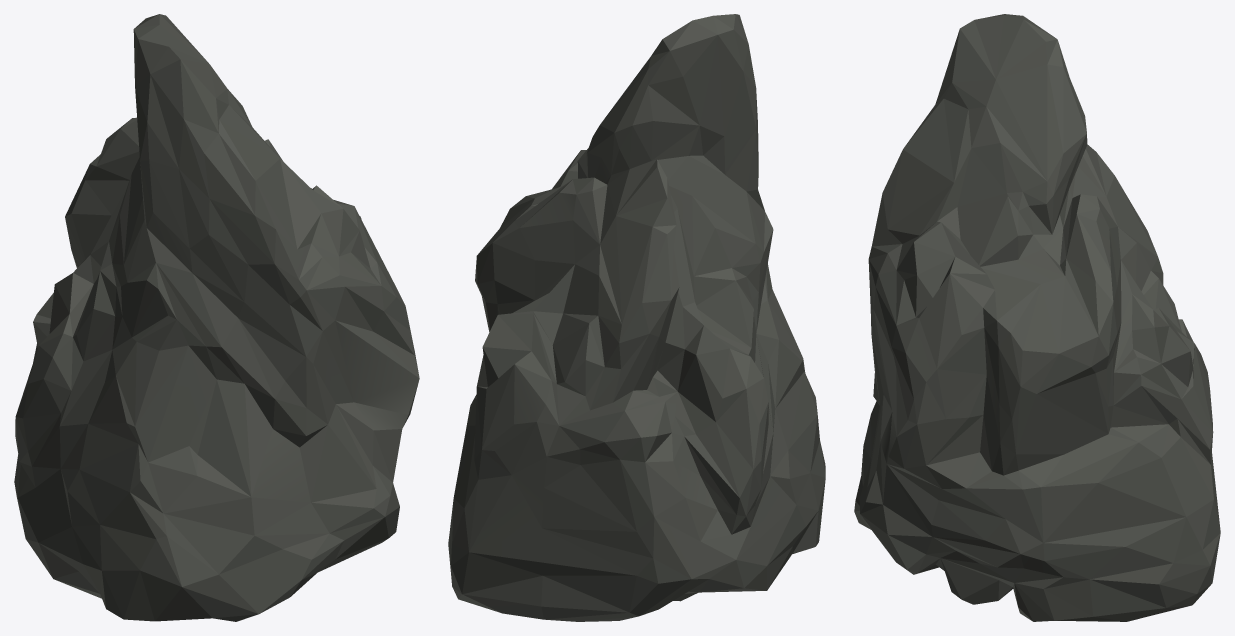
The model's file is Rock_Cliff_02.fbx.
3 renders of one model, left to right at view 1: azimuth 30°, elevation 25°; view 2: azimuth 150°, elevation 25°; view 3: azimuth 270°, elevation 25°, orthographic. The views are drawn at different scales.
Parts seen in each view (by area): view 1: Rock_Cliff_02; view 2: Rock_Cliff_02; view 3: Rock_Cliff_02.
Part boxes in pixels (<box>): Rock_Cliff_02: <box>14,14,419,621</box>; Rock_Cliff_02: <box>448,14,825,621</box>; Rock_Cliff_02: <box>854,14,1220,621</box>.
Size of the model in its own units: 1150 by 2055 by 1265.
1 material, 1 textured.
